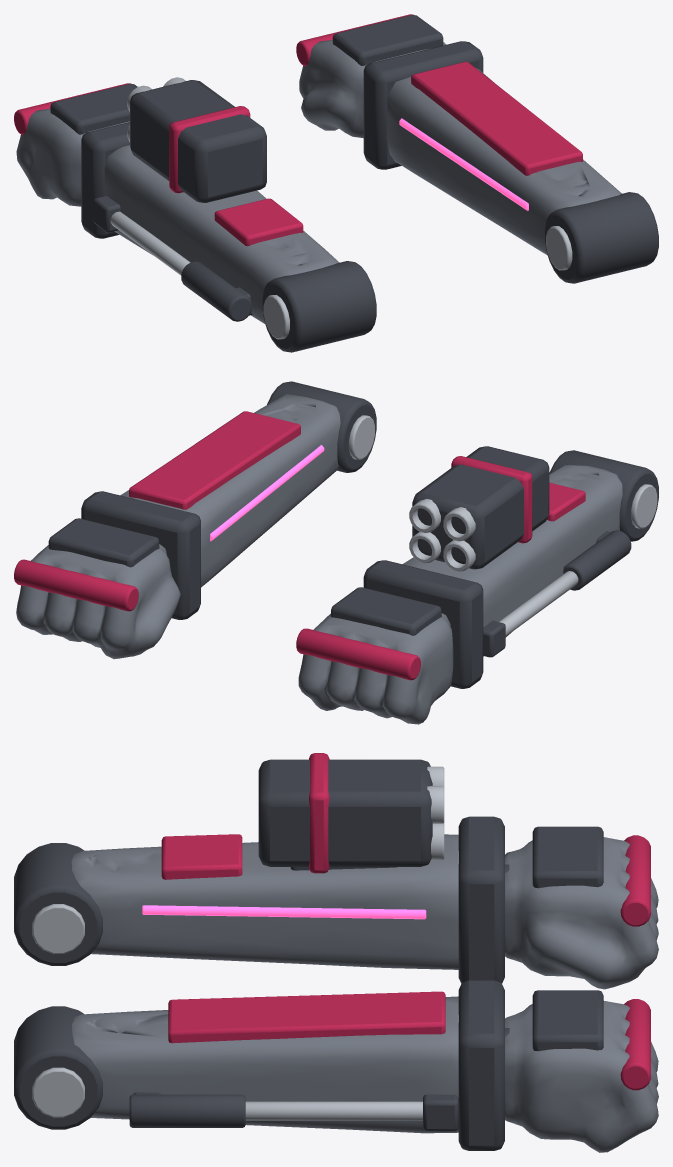
The model's file is w_rig_arms.glb.
3 views of the same model, one above another, from view 1: azimuth 30°, elevation 25°; view 2: azimuth 150°, elevation 25°; view 3: azimuth 270°, elevation 25° (orthographic). The views are drawn at different scales.
Parts seen in each view (by area): view 1: armL_wzB, armR_wzA, armL_wzA, armR_wzB, armR_wzN.001, fistR_wzA, fistL_wzA, armL_wzN, fistR_wzB, armL_wzN.002, fistL_wzB, armR_wzN.002 (+3 smaller); view 2: armL_wzB, armR_wzA, fistR_wzA, armL_wzA, fistL_wzA, armR_wzB, armR_wzN.001, armL_wzN.002, fistR_wzB, fistL_wzB, fistL_wzN, fistR_wzN (+3 smaller); view 3: armL_wzA, armL_wzB, armR_wzA, armR_wzB, fistL_wzA, fistR_wzA, armR_wzN.001, armL_wzN, armR_wzN, fistL_wzB, fistR_wzB, armL_wzN.002 (+3 smaller).
Part boxes in pixels (x1,y1,x2,y2): armL_wzB: [81, 80, 376, 352]; armR_wzA: [387, 67, 621, 255]; armL_wzA: [104, 145, 339, 323]; armR_wzB: [363, 41, 658, 283]; armR_wzN.001: [411, 61, 582, 175]; fistR_wzA: [299, 40, 446, 138]; fistL_wzA: [16, 108, 129, 206]; armL_wzN: [169, 106, 303, 246]; fistR_wzB: [332, 15, 443, 65]; armL_wzN.002: [110, 77, 289, 339]; fistL_wzB: [50, 83, 137, 134]; armR_wzN.002: [399, 118, 528, 210]; armL_wzB: [363, 446, 658, 688]; armR_wzA: [120, 394, 340, 587]; fistR_wzA: [16, 544, 180, 659]; armL_wzA: [402, 465, 622, 656]; fistL_wzA: [298, 613, 453, 724]; armR_wzB: [81, 381, 376, 619]; armR_wzN.001: [129, 411, 300, 509]; armL_wzN.002: [409, 484, 657, 636]; fistR_wzB: [48, 518, 159, 567]; fistL_wzB: [331, 587, 441, 635]; fistL_wzN: [296, 628, 420, 680]; fistR_wzN: [14, 559, 138, 611]; armL_wzA: [71, 834, 458, 969]; armL_wzB: [14, 759, 504, 983]; armR_wzA: [72, 996, 458, 1133]; armR_wzB: [14, 980, 504, 1150]; fistL_wzA: [505, 837, 658, 989]; fistR_wzA: [505, 1001, 658, 1152]; armR_wzN.001: [168, 991, 445, 1043]; armL_wzN: [161, 753, 329, 879]; armR_wzN: [32, 1067, 422, 1120]; fistL_wzB: [505, 826, 603, 888]; fistR_wzB: [505, 990, 603, 1051]; armL_wzN.002: [32, 766, 444, 953].
Bounding box in the file's own units: 0.857 × 0.326 × 1.
